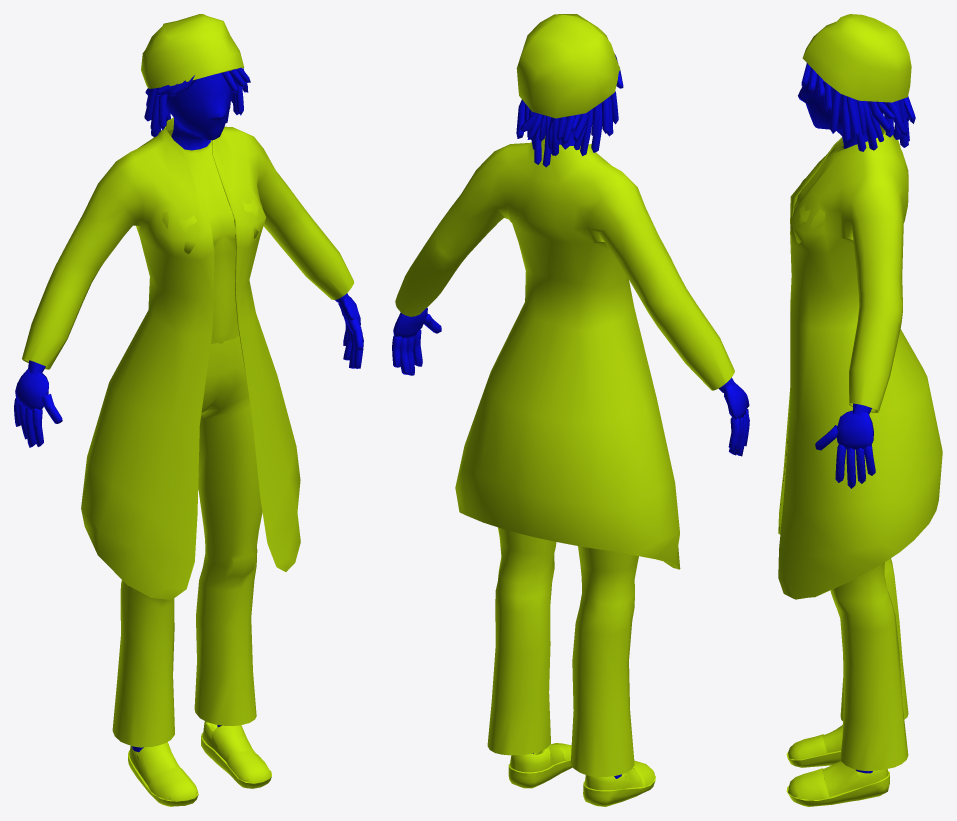
The model's file is prota.fbx.
3 renders of one model, left to right at view 1: azimuth 30°, elevation 25°; view 2: azimuth 150°, elevation 25°; view 3: azimuth 270°, elevation 25°, orthographic. The views are drawn at different scales.
Parts seen in each view (by area): view 1: BATA_low, PANTALON_low, SUELA_low, SUETERES_low, polySurface1, CABEZOTA_low, GORRO_lowas, GORRO_low, CABELLO_low; view 2: BATA_low, PANTALON_low, GORRO_low, GORRO_lowas, SUELA_low, CABELLO_low, polySurface1; view 3: BATA_low, PANTALON_low, GORRO_lowas, SUELA_low, GORRO_low, CABELLO_low, polySurface1, CABEZOTA_low, SUETERES_low.
Part boxes in pixels (bbox=[...]): BATA_low: bbox=[22, 117, 354, 599]; PANTALON_low: bbox=[112, 335, 262, 747]; SUELA_low: bbox=[128, 721, 271, 806]; SUETERES_low: bbox=[162, 134, 262, 345]; polySurface1: bbox=[14, 293, 363, 447]; CABEZOTA_low: bbox=[166, 73, 231, 150]; GORRO_lowas: bbox=[141, 15, 243, 88]; GORRO_low: bbox=[141, 14, 243, 88]; CABELLO_low: bbox=[144, 67, 250, 136]; BATA_low: bbox=[395, 136, 734, 569]; PANTALON_low: bbox=[487, 527, 638, 777]; GORRO_low: bbox=[517, 14, 616, 118]; GORRO_lowas: bbox=[516, 14, 620, 118]; SUELA_low: bbox=[508, 743, 655, 806]; CABELLO_low: bbox=[516, 54, 623, 167]; polySurface1: bbox=[392, 308, 749, 456]; BATA_low: bbox=[778, 125, 942, 599]; PANTALON_low: bbox=[830, 558, 908, 771]; GORRO_lowas: bbox=[803, 17, 911, 102]; SUELA_low: bbox=[786, 724, 889, 806]; GORRO_low: bbox=[803, 14, 911, 102]; CABELLO_low: bbox=[801, 63, 915, 151]; polySurface1: bbox=[815, 403, 875, 488]; CABEZOTA_low: bbox=[798, 81, 885, 148]; SUETERES_low: bbox=[792, 144, 844, 243].
Size of the model in its own units: 1.34 by 2.87 by 0.5563.
